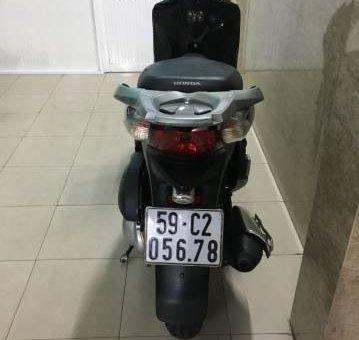numplate: (140, 203, 225, 269)
